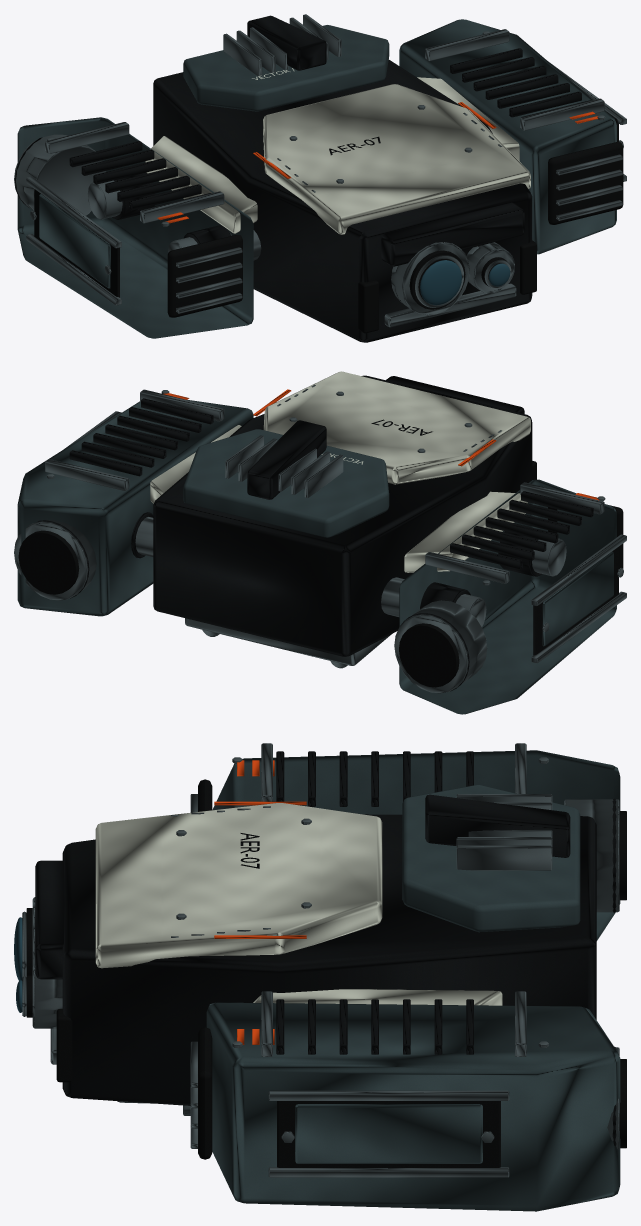
File: interceptor.glb
3 views of the same model, one above another, from view 1: azimuth 30°, elevation 25°; view 2: azimuth 150°, elevation 25°; view 3: azimuth 270°, elevation 25° (orthographic). The views are drawn at different scales.
Visible parts, largest first — view 1: Industrial_Graphite / manufactured assembly, Industrial_SlateCoat / manufactured assembly, DamageArmour_Fore, Industrial_BareSteel / manufactured assembly, Industrial_Seal / manufactured assembly, DamageArmour_Aft, DamageArmour_Port, Sensor_Emitter, DamageArmour_Starboard, Industrial_SafetyOrange / manufactured assembly; view 2: Industrial_Graphite / manufactured assembly, Industrial_SlateCoat / manufactured assembly, Industrial_BareSteel / manufactured assembly, DamageArmour_Fore, DamageArmour_Aft, Industrial_Seal / manufactured assembly, DamageArmour_Port, DamageArmour_Starboard, Industrial_SafetyOrange / manufactured assembly; view 3: Industrial_SlateCoat / manufactured assembly, Industrial_Graphite / manufactured assembly, DamageArmour_Fore, Industrial_BareSteel / manufactured assembly, DamageArmour_Aft, Industrial_Seal / manufactured assembly, DamageArmour_Starboard, Industrial_SafetyOrange / manufactured assembly.
Part boxes in pixels (left/top/right/bottom): Industrial_Graphite / manufactured assembly: left=15, top=15, right=591, bottom=342; Industrial_SlateCoat / manufactured assembly: left=17, top=19, right=616, bottom=338; DamageArmour_Fore: left=263, top=84, right=530, bottom=234; Industrial_BareSteel / manufactured assembly: left=14, top=14, right=626, bottom=327; Industrial_Seal / manufactured assembly: left=34, top=112, right=623, bottom=333; DamageArmour_Aft: left=183, top=25, right=389, bottom=111; DamageArmour_Port: left=145, top=136, right=257, bottom=233; Sensor_Emitter: left=420, top=260, right=461, bottom=305; DamageArmour_Starboard: left=417, top=77, right=519, bottom=160; Industrial_SafetyOrange / manufactured assembly: left=157, top=102, right=598, bottom=223; Industrial_Graphite / manufactured assembly: left=36, top=375, right=593, bottom=691; Industrial_SlateCoat / manufactured assembly: left=17, top=400, right=616, bottom=714; Industrial_BareSteel / manufactured assembly: left=14, top=384, right=626, bottom=693; DamageArmour_Fore: left=263, top=371, right=530, bottom=484; DamageArmour_Aft: left=183, top=429, right=389, bottom=537; Industrial_Seal / manufactured assembly: left=18, top=461, right=623, bottom=687; DamageArmour_Port: left=404, top=491, right=527, bottom=572; DamageArmour_Starboard: left=150, top=425, right=241, bottom=503; Industrial_SafetyOrange / manufactured assembly: left=163, top=389, right=598, bottom=500; Industrial_SlateCoat / manufactured assembly: left=206, top=750, right=620, bottom=1211; Industrial_Graphite / manufactured assembly: left=35, top=751, right=616, bottom=1146; DamageArmour_Fore: left=95, top=803, right=382, bottom=968; Industrial_BareSteel / manufactured assembly: left=22, top=743, right=619, bottom=1177; DamageArmour_Aft: left=402, top=785, right=580, bottom=932; Industrial_Seal / manufactured assembly: left=26, top=779, right=626, bottom=1167; DamageArmour_Starboard: left=253, top=989, right=502, bottom=1005; Industrial_SafetyOrange / manufactured assembly: left=214, top=760, right=306, bottom=1044.
Size of the model in its own units: 1.25 by 0.4695 by 0.9647.
Materials: 9 (7 with a texture image).
